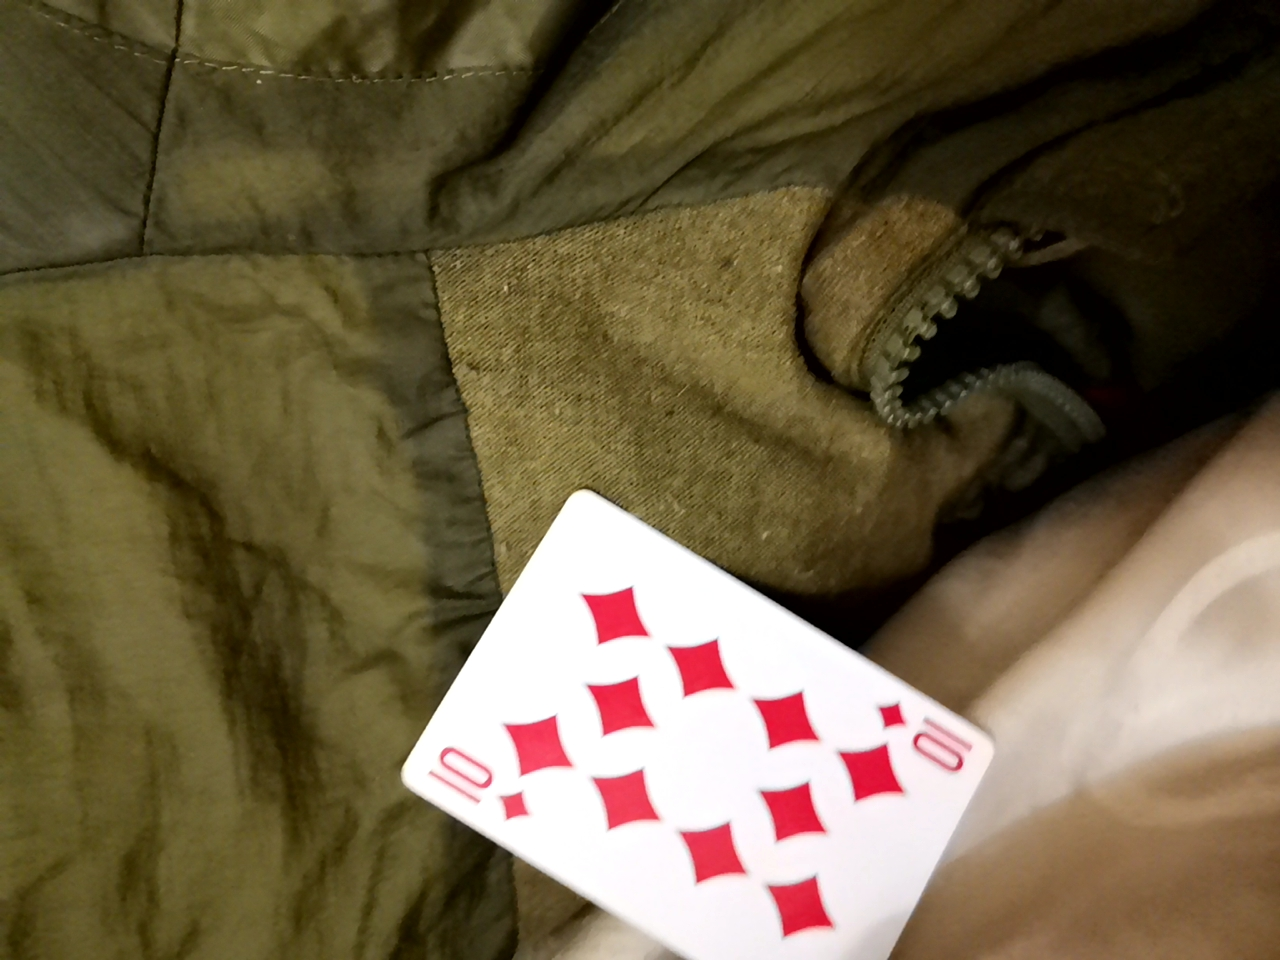fk 10: (361, 476, 961, 960)
